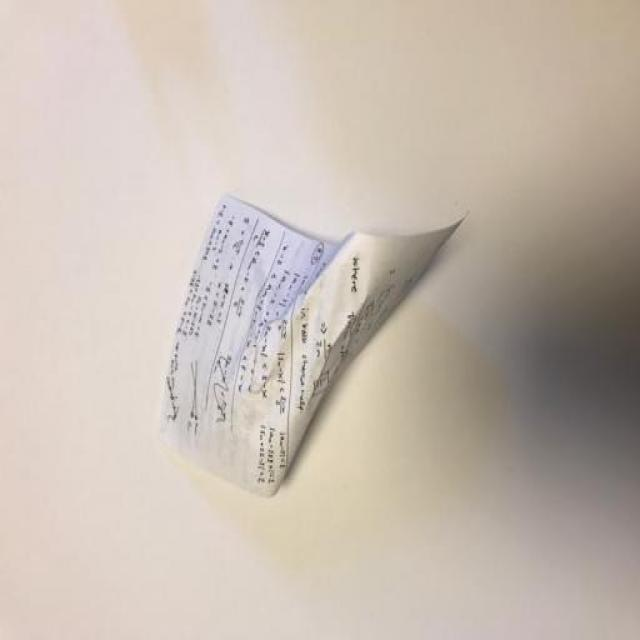paper: (189, 219, 435, 519)
